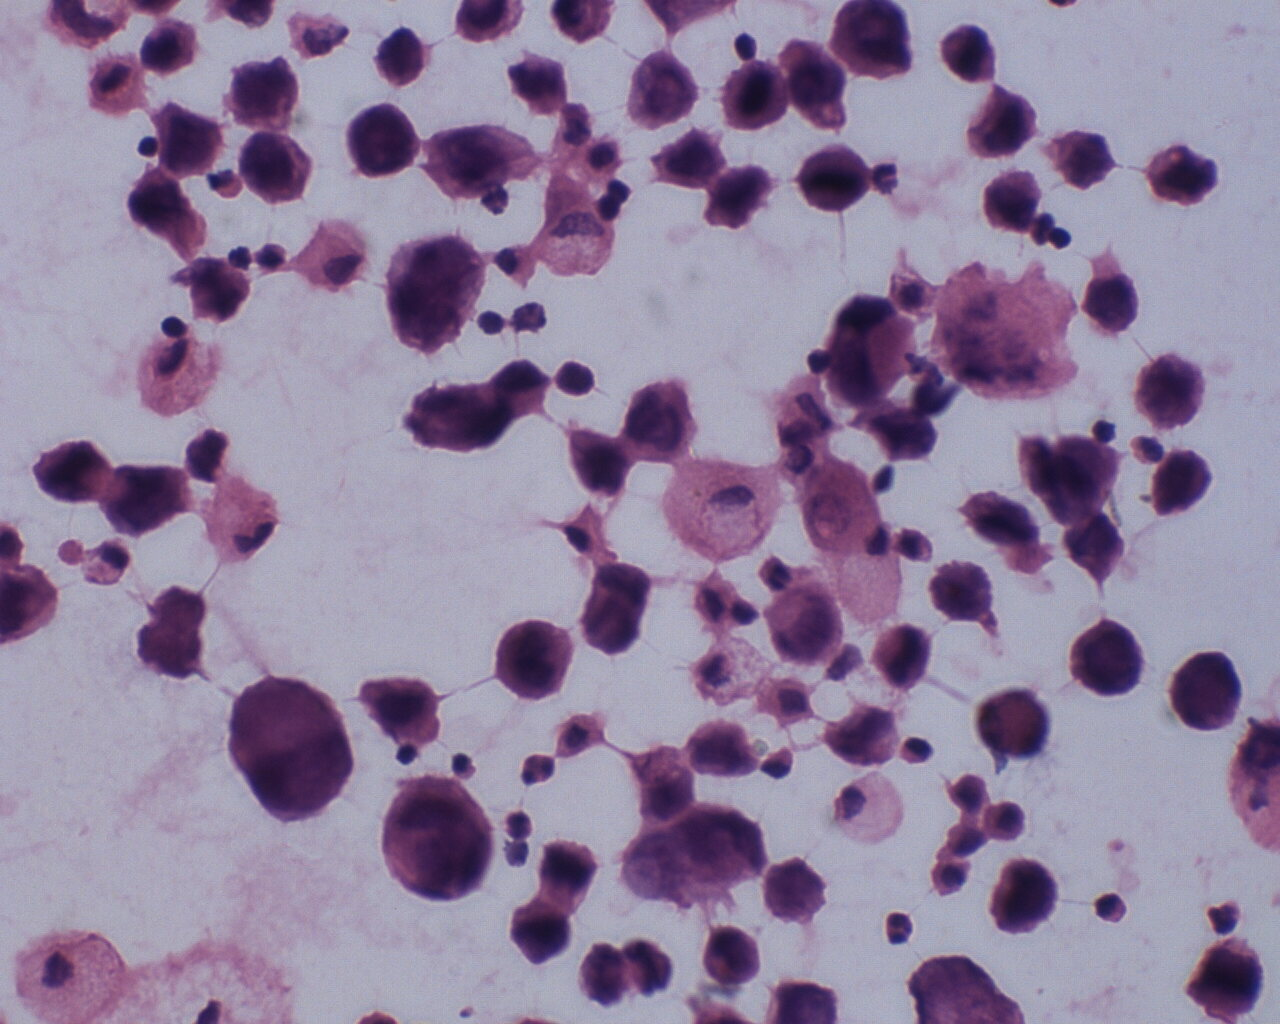ab: (228, 670, 354, 825), (380, 774, 497, 905), (493, 615, 579, 702), (829, 1, 917, 84), (764, 581, 851, 665), (620, 377, 700, 467), (103, 459, 195, 536), (1131, 346, 1211, 432), (1169, 646, 1246, 735), (220, 55, 310, 129), (236, 126, 315, 207), (1070, 615, 1146, 698), (963, 83, 1044, 159), (345, 102, 420, 183), (987, 856, 1064, 934), (152, 98, 227, 178), (868, 620, 942, 699), (1146, 137, 1221, 209), (693, 917, 764, 992), (504, 898, 578, 968), (798, 142, 869, 213), (657, 123, 731, 191), (933, 17, 1004, 87), (720, 59, 789, 130), (1051, 116, 1115, 192), (979, 163, 1043, 233)
histo: (11, 926, 129, 1023), (133, 335, 222, 420), (832, 770, 912, 852)
neutro: (884, 906, 917, 949), (515, 750, 555, 786)
